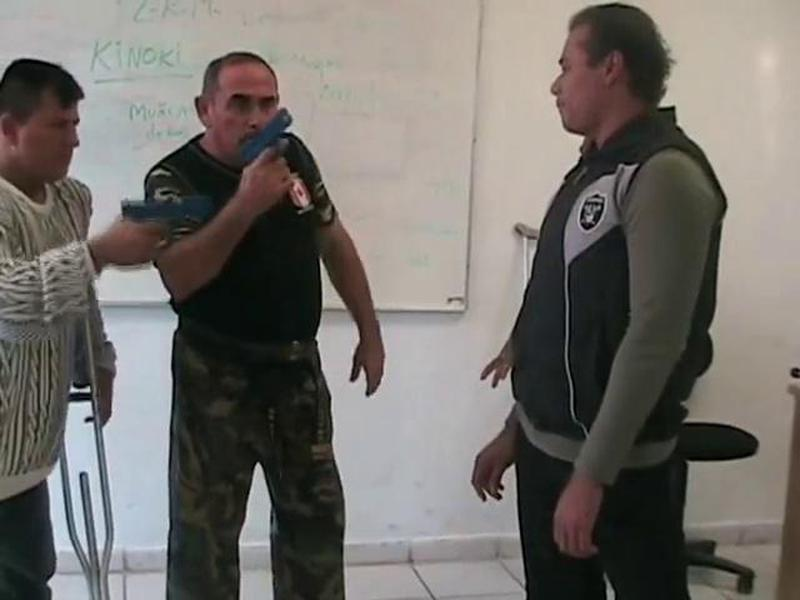Pistola: (239, 103, 328, 192), (115, 190, 220, 254)
